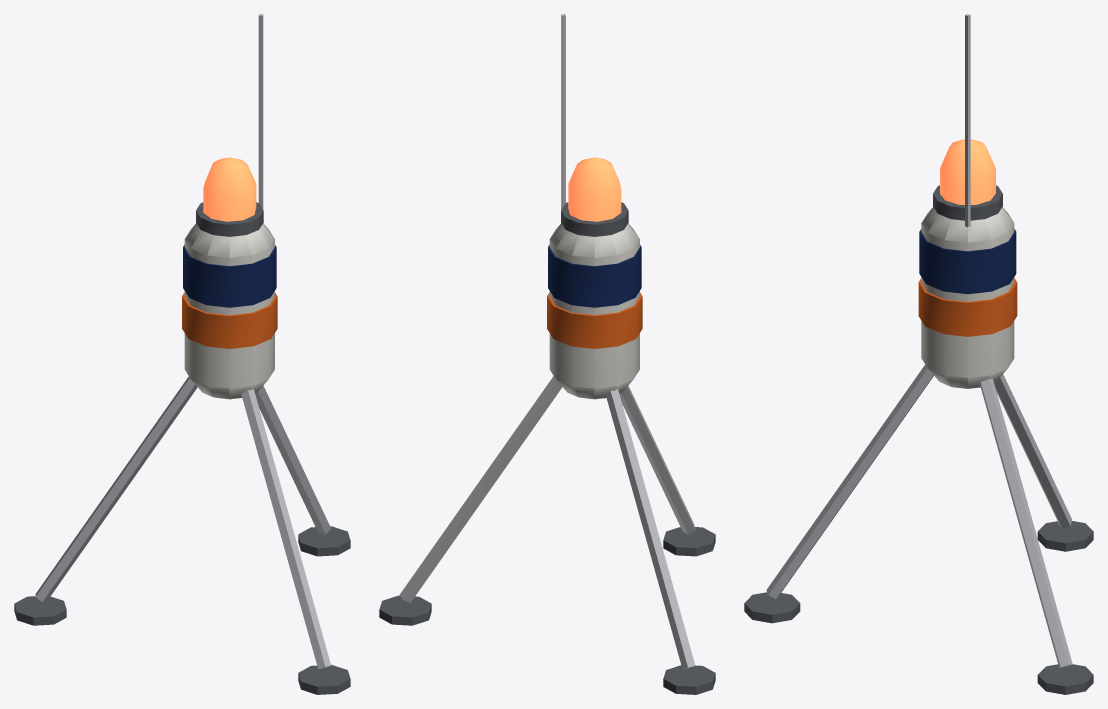
File: beacon.glb
3 views of the same model, side by side, from view 1: azimuth 30°, elevation 25°; view 2: azimuth 150°, elevation 25°; view 3: azimuth 270°, elevation 25° (orthographic). The views are drawn at different scales.
Visible parts, largest first — view 1: body; view 2: body; view 3: body.
Part boxes in pixels (x1,y1,x2,y2): body: [14, 14, 350, 694]; body: [379, 14, 715, 694]; body: [744, 14, 1093, 694].
Bounding box in the file's own units: 0.8475 × 1.45 × 0.75.
